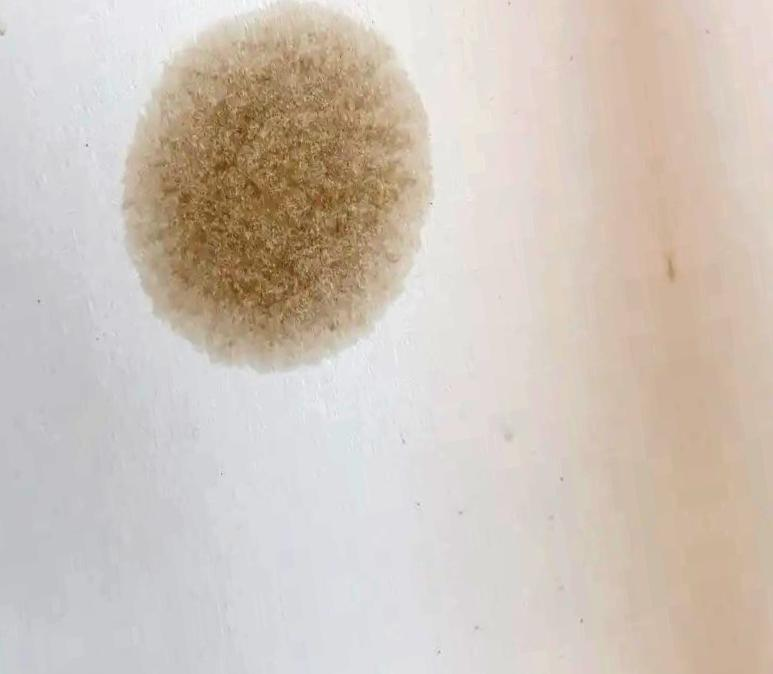stain: (115, 0, 438, 386)
